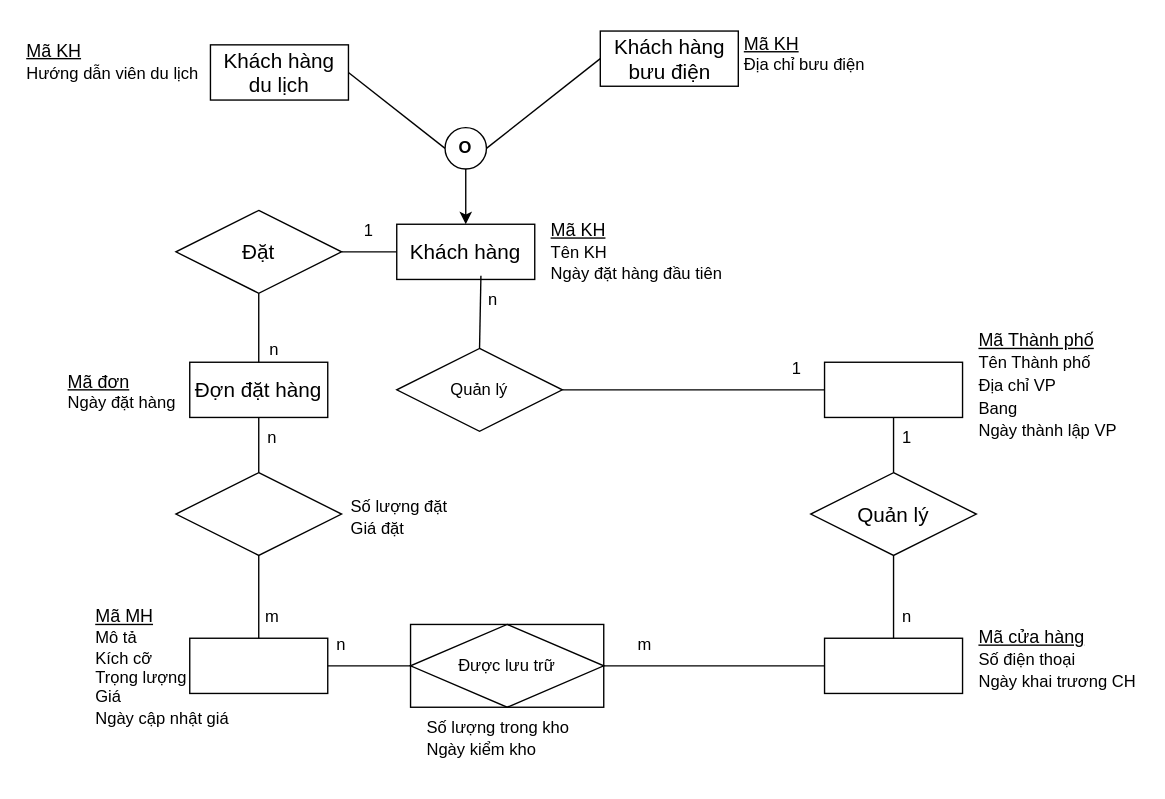
This 1165x799 diagram has some shape labels left out. Here are the shapes that lost their labels. From the top down, the box of each, then its label:
(823, 361, 963, 417): Văn phòng đại diện
(175, 471, 342, 555): Được đặt
(188, 637, 328, 693): Mặt hàng
(823, 637, 963, 693): Cửa hàng
